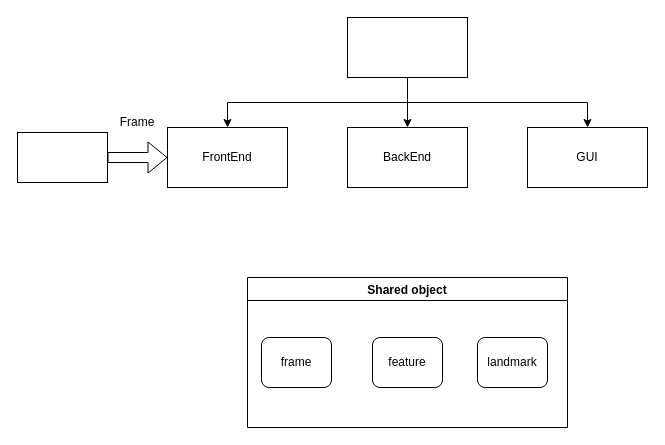
Image size: 665x445. Some labels were removed from this diagram. Each missing label, with the centre of its shape:
VideoCapture: [62,157]
VslamMgr: [407,47]
